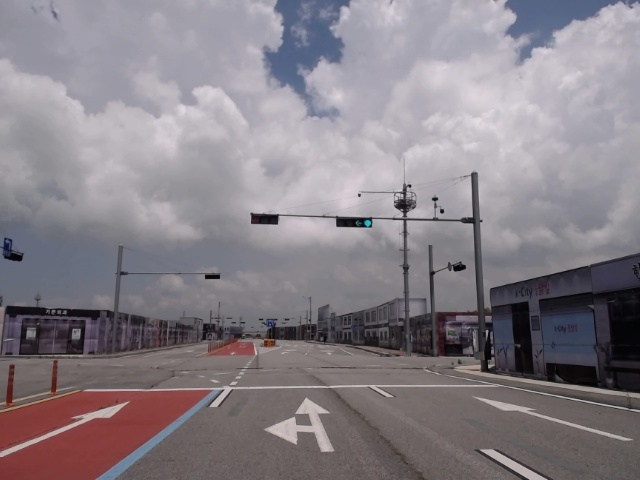all_green_4: (337, 216, 374, 227)
